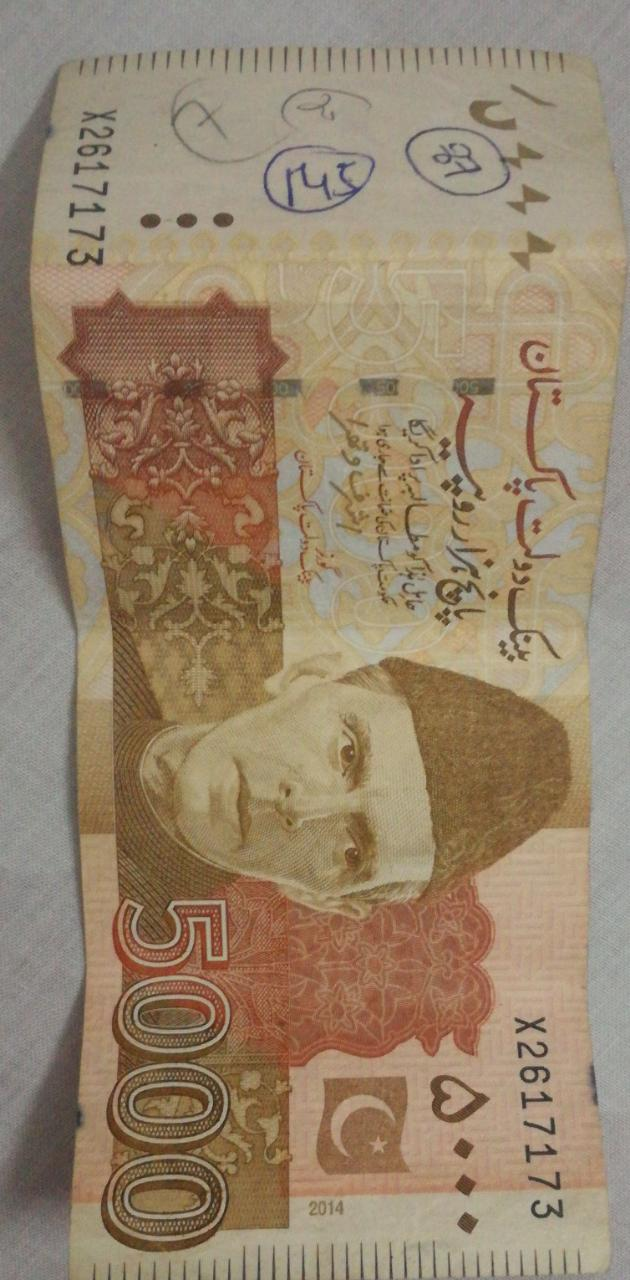5000 rupee: (34, 60, 609, 1245)
